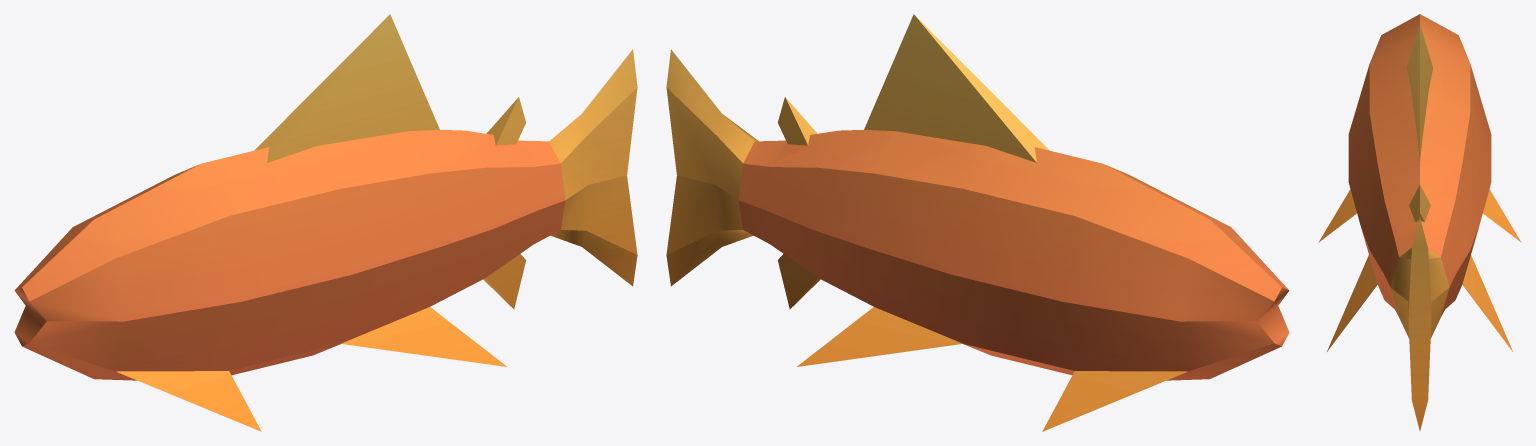
Rendered from fish.obj.
3 views of the same model, side by side, from view 1: azimuth 30°, elevation 25°; view 2: azimuth 150°, elevation 25°; view 3: azimuth 270°, elevation 25° (orthographic). The views are drawn at different scales.
Visible parts, largest first — view 1: fish; view 2: fish; view 3: fish.
Part boxes in pixels (x1,y1,x2,y2): fish: (14,14,637,431); fish: (666,14,1289,431); fish: (1318,14,1521,430).
Bounding box in the file's own units: 0.2049 × 0.1063 × 0.0653.
Materials: 1 (1 with a texture image).
